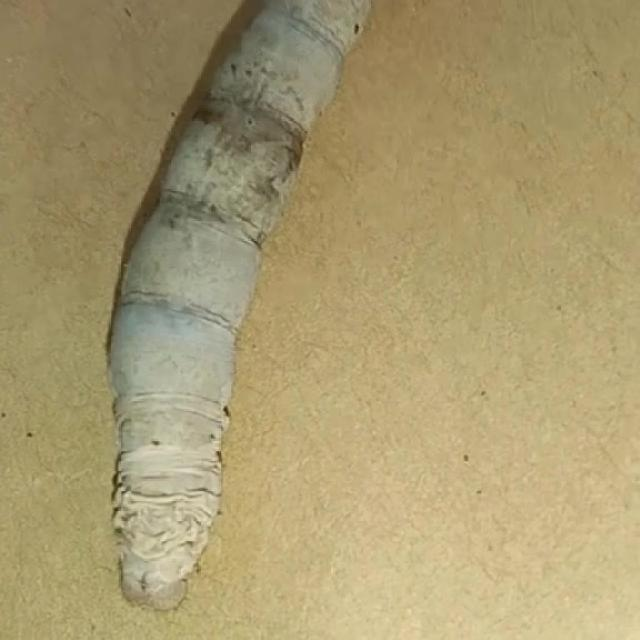Grasserie: (61, 2, 360, 622)
